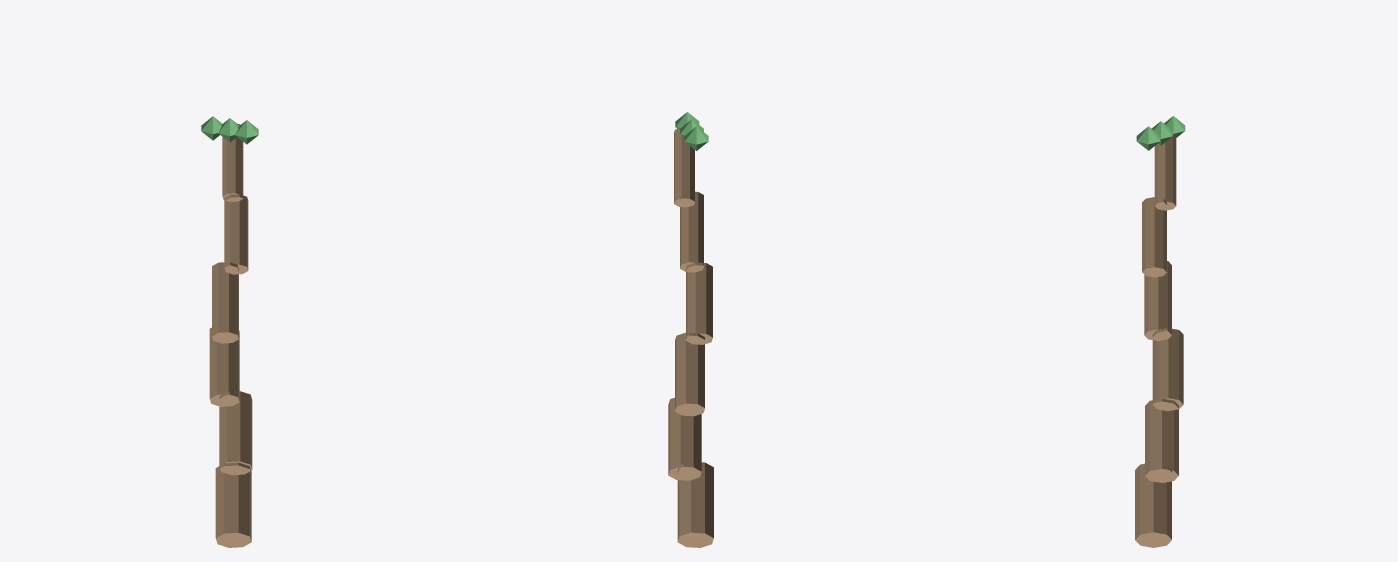
The model's file is palm_tropical.glb.
The picture shows the model from 3 angles, left to right: view 1: azimuth 30°, elevation 25°; view 2: azimuth 150°, elevation 25°; view 3: azimuth 270°, elevation 25°; orthographic projection.
Parts seen in each view (by area): view 1: palm_tropical; view 2: palm_tropical; view 3: palm_tropical.
Part boxes in pixels (x1,y1,x2,y2): palm_tropical: [201, 116, 258, 547]; palm_tropical: [668, 112, 713, 547]; palm_tropical: [1135, 116, 1185, 547].
Bounding box in the file's own units: 7.2 × 8 × 7.2.
